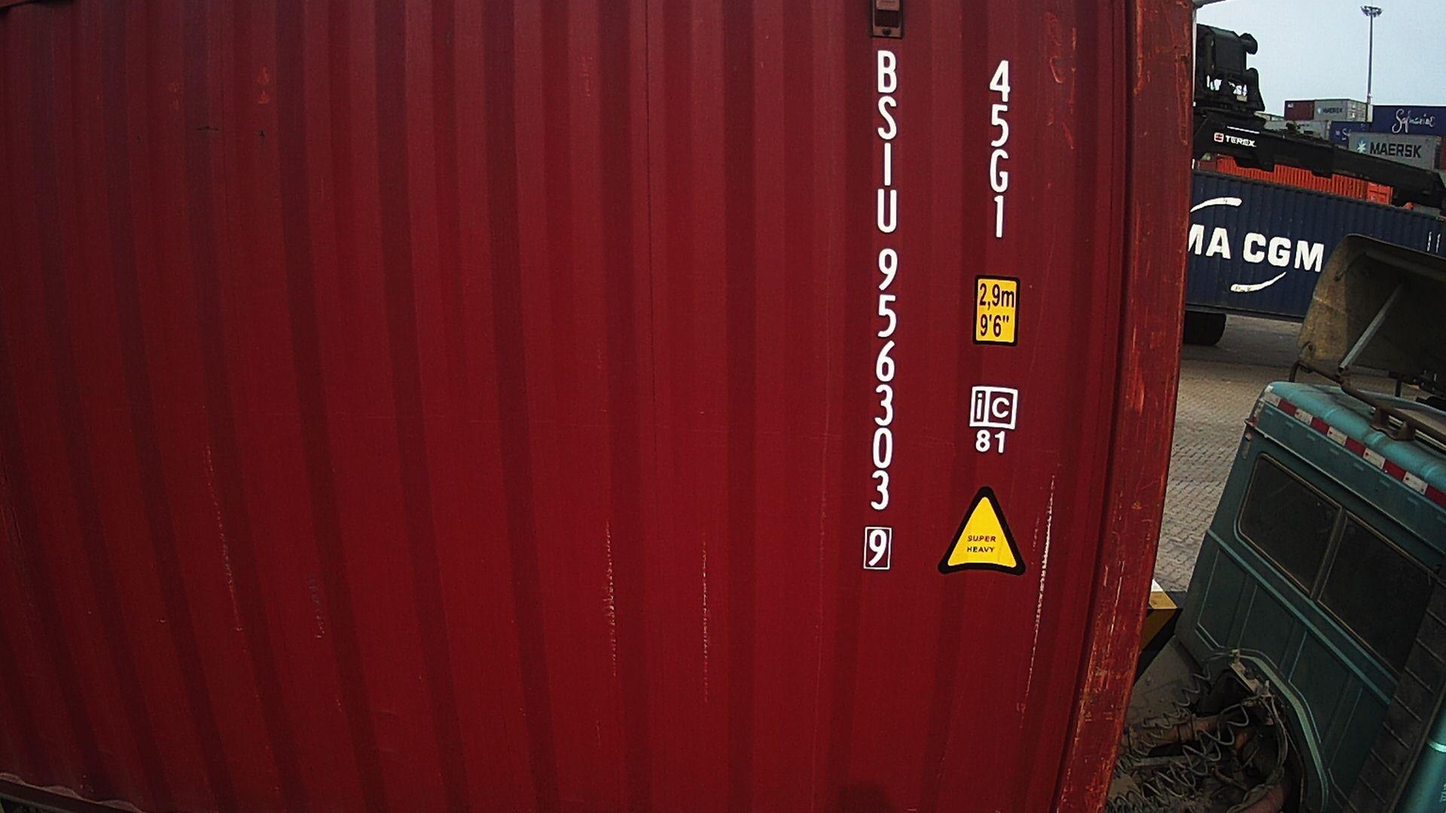container-numbers: (856, 46, 906, 575), (985, 55, 1022, 245)
